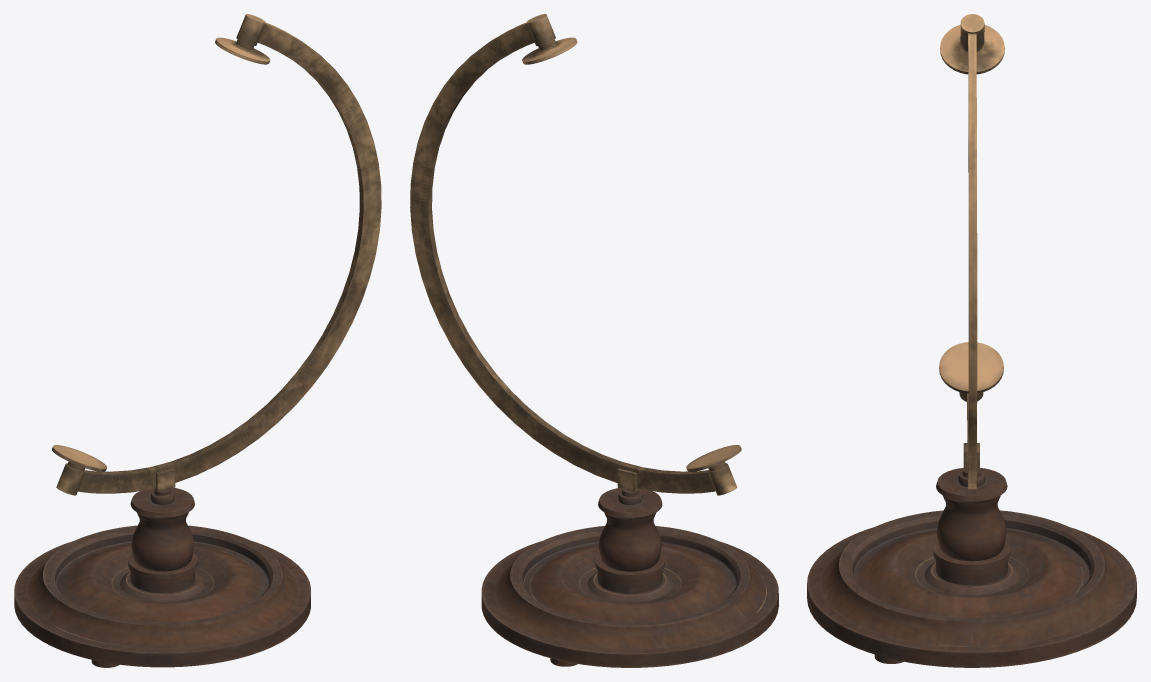
Rendered from globe-desk.glb.
3 views of the same model, side by side, from view 1: azimuth 30°, elevation 25°; view 2: azimuth 150°, elevation 25°; view 3: azimuth 270°, elevation 25° (orthographic). The views are drawn at different scales.
Visible parts, largest first — view 1: globe-desk; view 2: globe-desk; view 3: globe-desk.
Boxes of the visible parts, x1,y1,x2,y2 form: globe-desk: (14, 14, 381, 667); globe-desk: (410, 14, 778, 667); globe-desk: (807, 14, 1136, 667).
Size of the model in its own units: 0.2632 by 0.4179 by 0.1957.
Materials: 1 (1 with a texture image).
